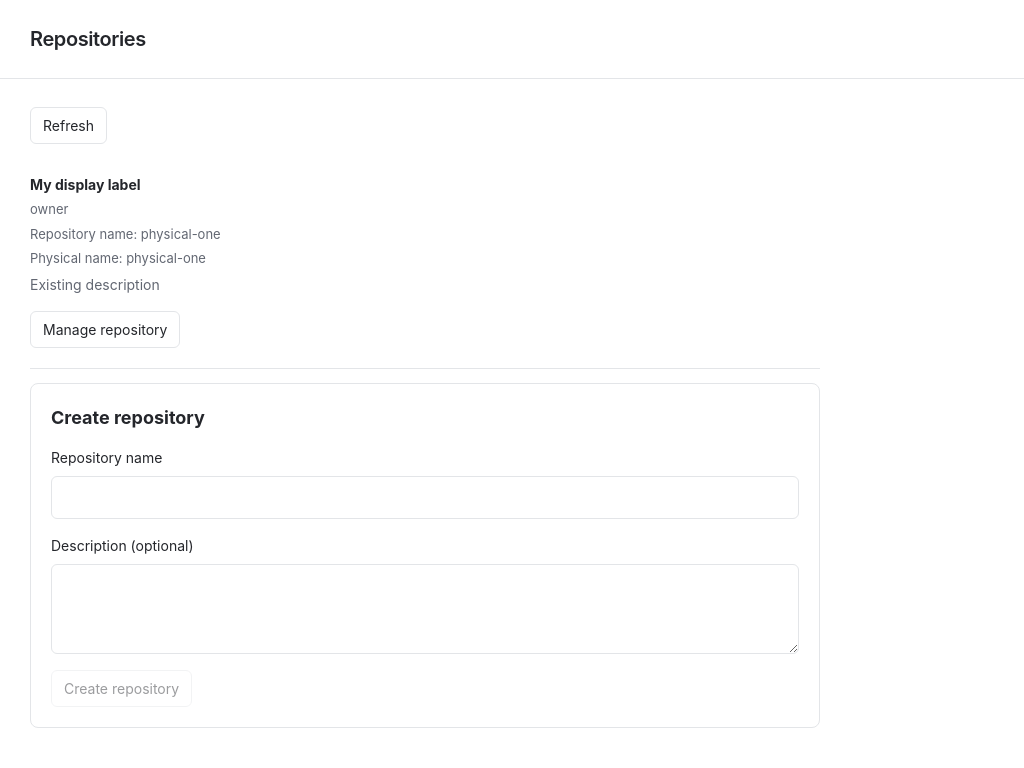
Test: requires access discovery after an unknown invitation creation before another create
Click the button "Manage repository" at (105, 329), box [30,310,180,348]
(page scrolled)
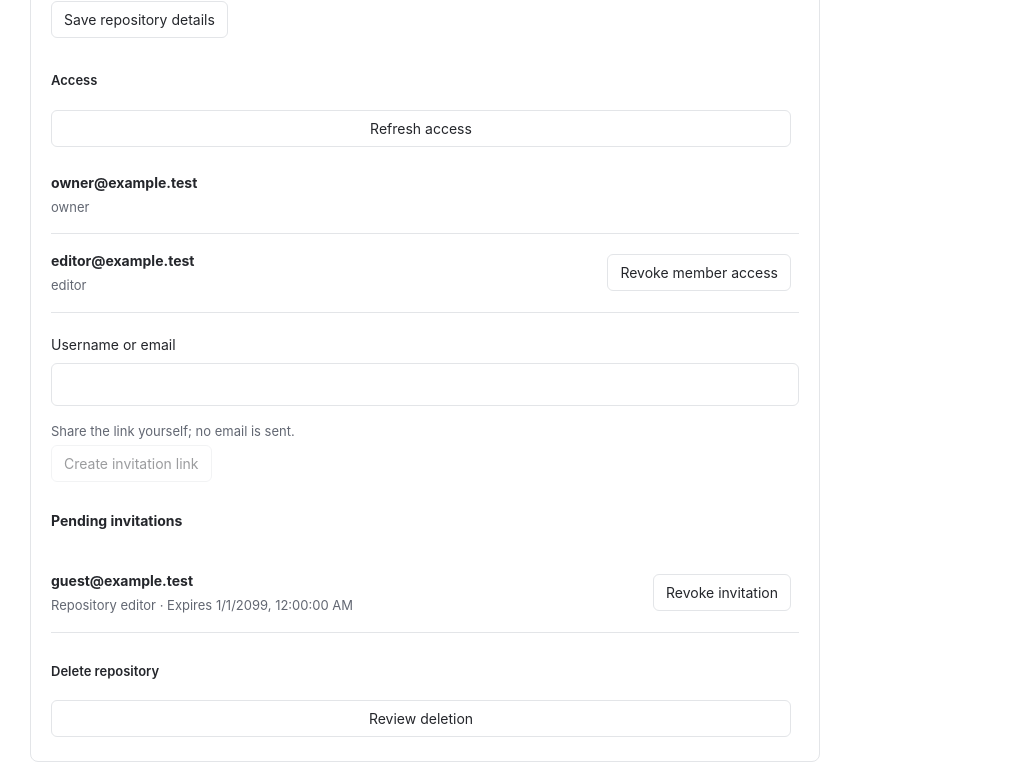
Expected: the text "editor@example.test" is shown, [51,252,194,269]
Type "guest@example.test" into the field labelled "Username or email" at (425, 384), box [51,362,799,406]
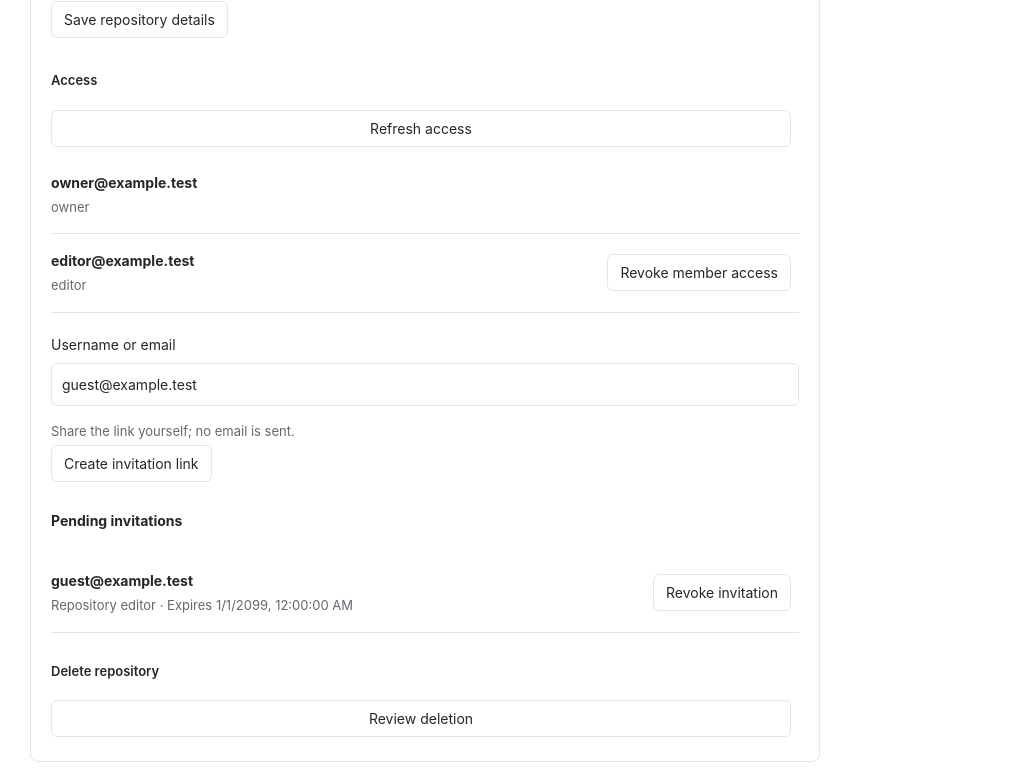
Click the button "Create invitation link" at (131, 464), box [51,445,212,482]
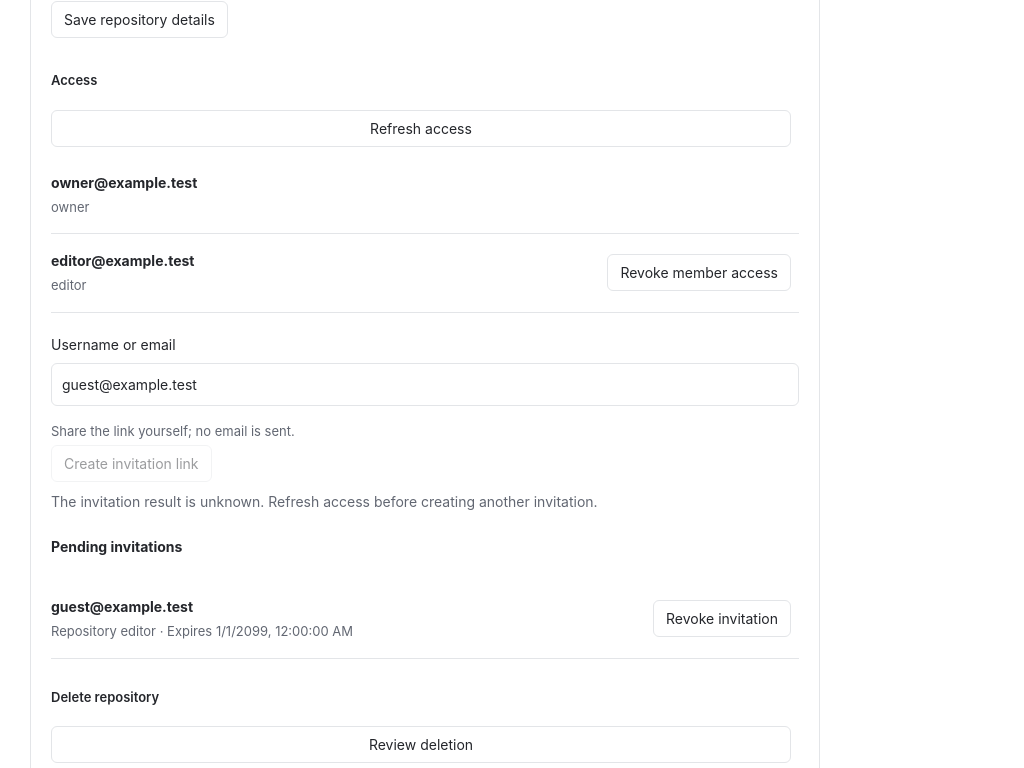
Expected: the text "invitation result is unknown" is shown, [51,493,598,510]
Expected: the button "Create invitation link" is disabled, [51,445,212,482]
Click the button "Refresh access" at (421, 128), box [51,110,791,146]
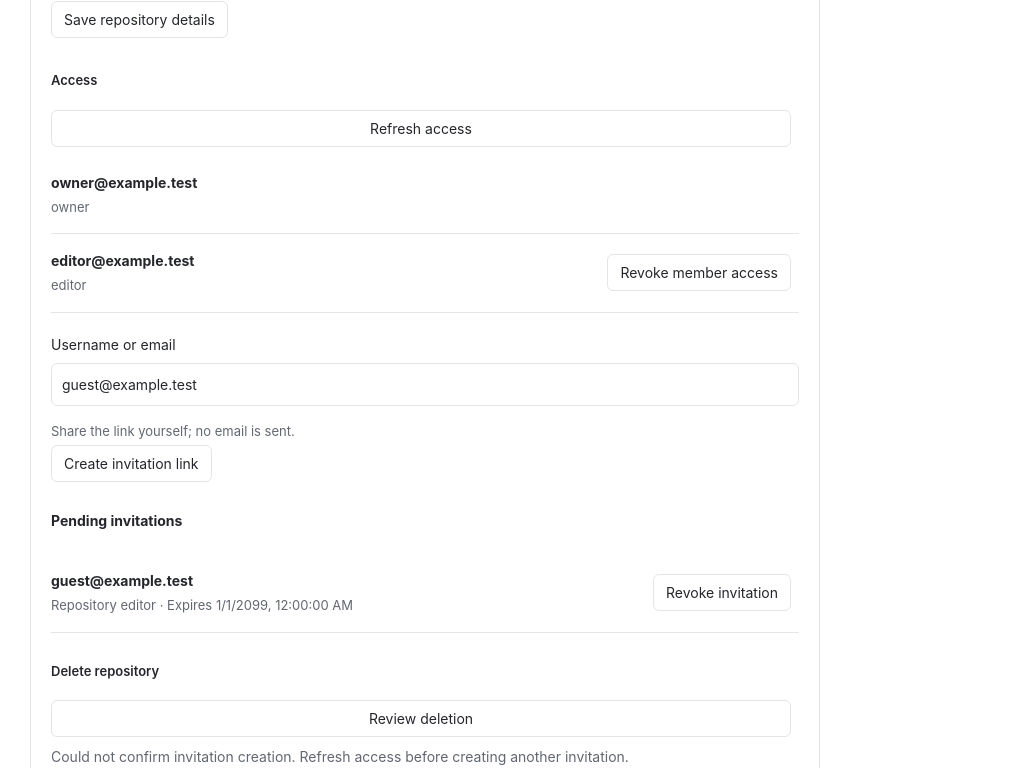
Expected: the button "Create invitation link" is enabled, [51,445,212,482]
